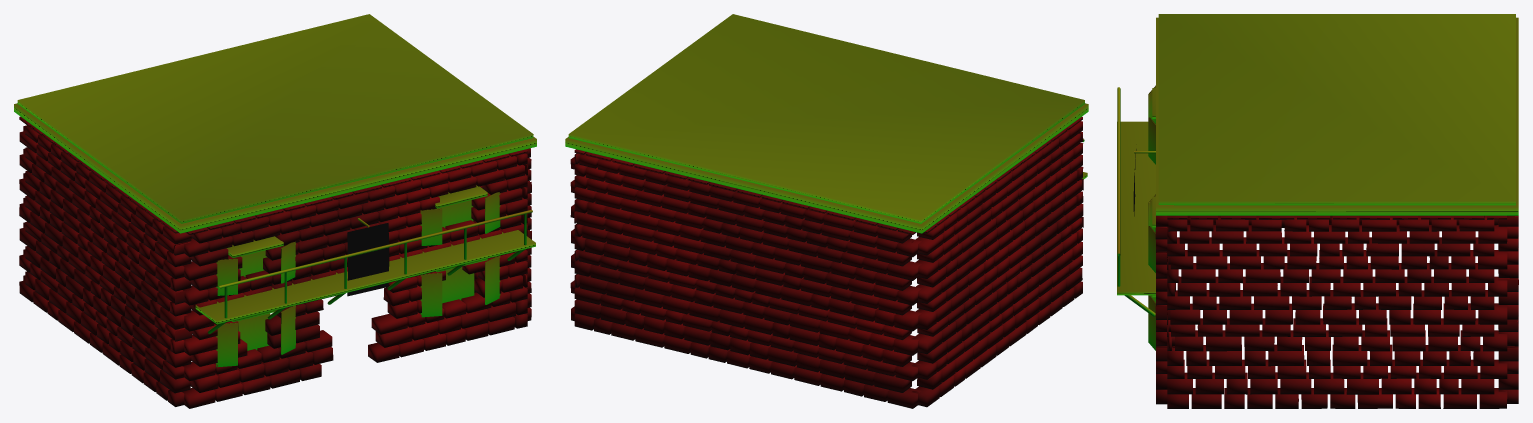
File: quellan_inn.glb
3 renders of one model, left to right at view 1: azimuth 30°, elevation 25°; view 2: azimuth 150°, elevation 25°; view 3: azimuth 270°, elevation 25°, orthographic. The views are drawn at different scales.
Parts seen in each view (by area): view 1: quellan_inn; view 2: quellan_inn; view 3: quellan_inn.
Part boxes in pixels (x1,y1,x2,y2): quellan_inn: [14, 14, 536, 408]; quellan_inn: [565, 14, 1088, 408]; quellan_inn: [1117, 14, 1518, 408].
Size of what is drawn, in the model's own units: 10.49 by 5.33 by 9.38.
